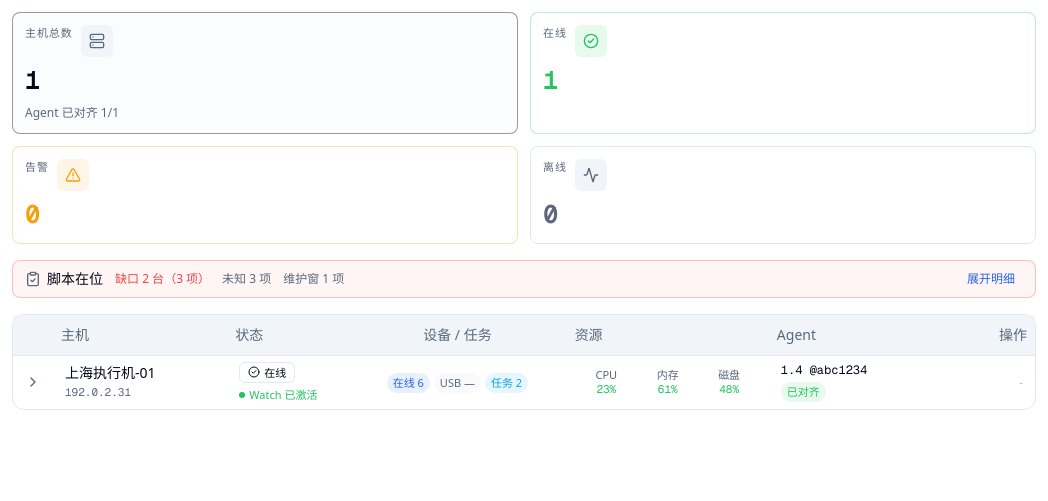
Test case: 脚本在位（#2958 第五道闸） › fleet 汇总行报缺口台数与未知/维护项数，明细面板给六态分解
Expected: the text "缺口 2 台（3 项）" is shown, [115,271,210,287]
Expected: the text "未知 3 项" is shown, [222,271,271,287]
Click the button "展开明细".
click(991, 279)  # box [959,269,1023,289]
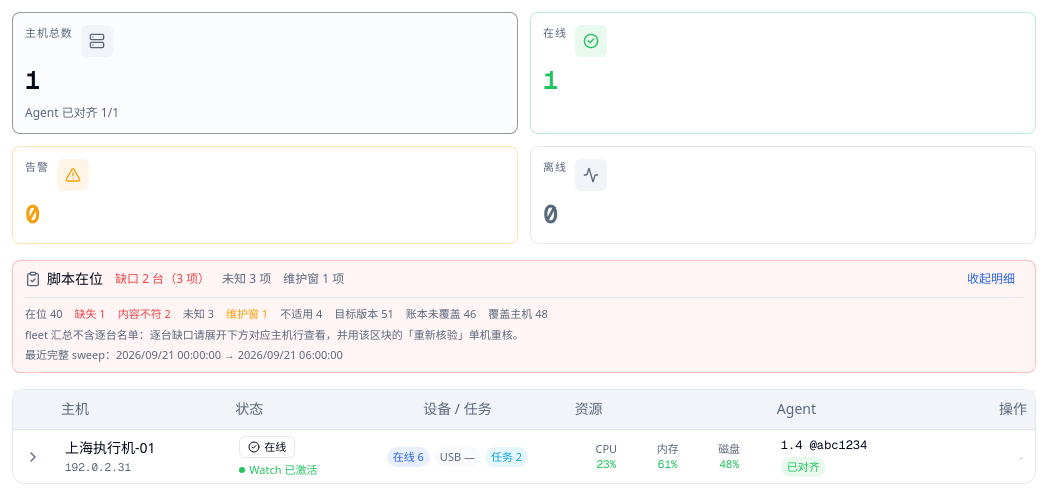
Now the text "内容不符 2" is shown, box [118,306,171,322]
Now the text "缺失 1" is shown, box [74,306,106,322]
Now the text "不适用 4" is shown, box [280,306,322,322]
